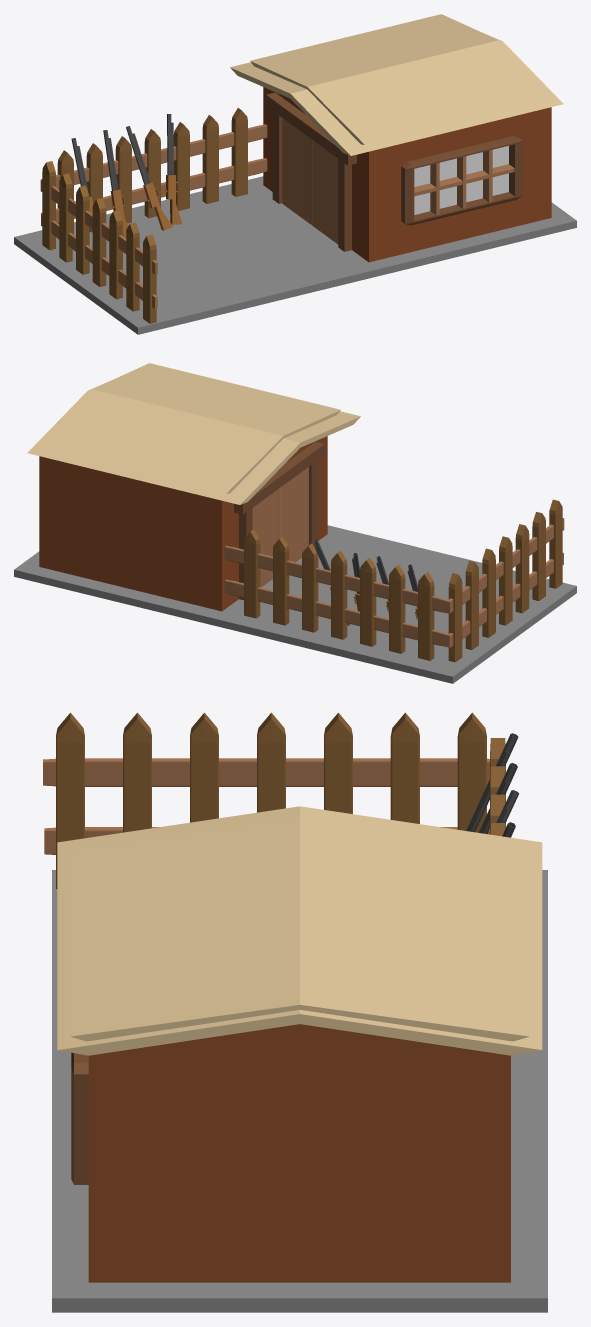
File: Armory.fbx
3 renders of one model, top to bottom at view 1: azimuth 30°, elevation 25°; view 2: azimuth 150°, elevation 25°; view 3: azimuth 270°, elevation 25°, orthographic. The views are drawn at different scales.
Visible parts, largest first — view 1: Cube.002, Cube.004, Cube, Cube.008, Cube.001, Cube.013, Cube.003, Cube.005, Cube.010, Cube.009, Cube.006, Cube.007 (+2 smaller); view 2: Cube, Cube.004, Cube.002, Cube.008, Cube.013, Cube.003, Cube.001, Cube.007, Cube.006; view 3: Cube, Cube.004, Cube.002, Cube.008, Cube.003, Cube.013, Cube.005.
Boxes of the visible parts, x1=… form: Cube.002: x1=14, y1=176, x2=576, y2=334; Cube.004: x1=250, y1=14, x2=555, y2=144; Cube: x1=263, y1=87, x2=551, y2=262; Cube.008: x1=42, y1=108, x2=247, y2=323; Cube.001: x1=282, y1=118, x2=338, y2=244; Cube.013: x1=40, y1=124, x2=267, y2=308; Cube.003: x1=230, y1=35, x2=563, y2=155; Cube.005: x1=401, y1=136, x2=522, y2=225; Cube.010: x1=414, y1=146, x2=508, y2=214; Cube.009: x1=414, y1=150, x2=514, y2=215; Cube.006: x1=272, y1=111, x2=351, y2=251; Cube.007: x1=266, y1=92, x2=356, y2=165; Cube: x1=39, y1=436, x2=327, y2=611; Cube.004: x1=35, y1=363, x2=340, y2=493; Cube.002: x1=14, y1=525, x2=576, y2=683; Cube.008: x1=244, y1=499, x2=562, y2=662; Cube.013: x1=224, y1=518, x2=564, y2=647; Cube.003: x1=27, y1=384, x2=360, y2=504; Cube.001: x1=252, y1=467, x2=308, y2=587; Cube.007: x1=234, y1=441, x2=324, y2=514; Cube.006: x1=239, y1=460, x2=318, y2=600; Cube: x1=88, y1=1024, x2=510, y2=1282; Cube.004: x1=70, y1=818, x2=529, y2=1041; Cube.002: x1=52, y1=870, x2=547, y2=1312; Cube.008: x1=56, y1=712, x2=505, y2=888; Cube.003: x1=57, y1=806, x2=542, y2=1055; Cube.013: x1=43, y1=758, x2=489, y2=854; Cube.005: x1=71, y1=1052, x2=88, y2=1184.
Size of the model in its own units: 1503 by 478 by 749.
